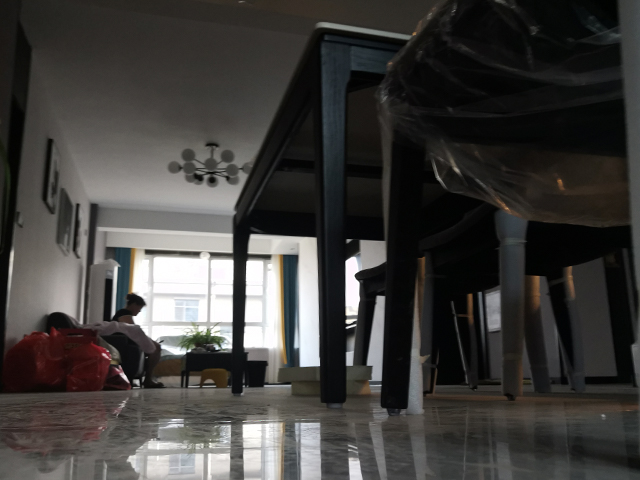curtain: (265, 254, 299, 389)
stool: (378, 1, 640, 415), (198, 367, 229, 390)
table: (224, 20, 640, 411), (178, 352, 249, 390)
trashcan: (244, 359, 271, 389)
